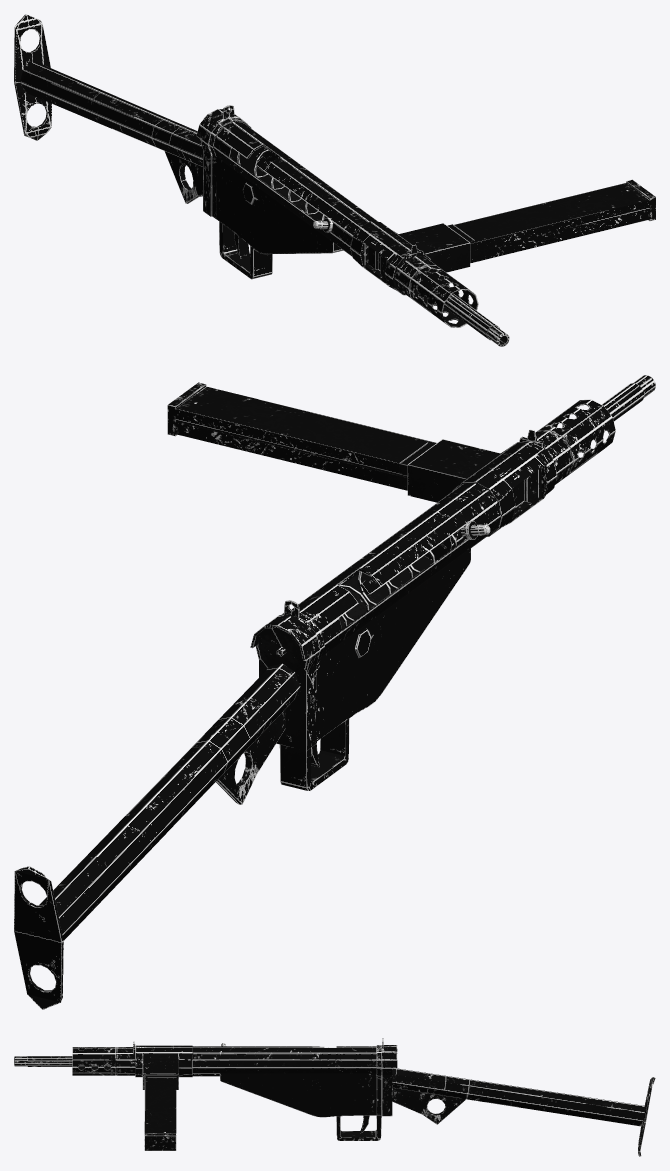
The model's file is Suten_MK2.fbx.
The picture shows the model from 3 angles, top to bottom: view 1: azimuth 30°, elevation 25°; view 2: azimuth 150°, elevation 25°; view 3: azimuth 270°, elevation 25°; orthographic projection. The views are drawn at different scales.
Parts seen in each view (by area): view 1: Gun; view 2: Gun; view 3: Gun.
Boxes of the visible parts, x1,y1,x2,y2 form: Gun: (14,14,655,346); Gun: (14,375,655,1009); Gun: (14,1038,655,1156).
Size of the model in its own units: 19.12 by 11.33 by 55.95.
1 material, 1 textured.
